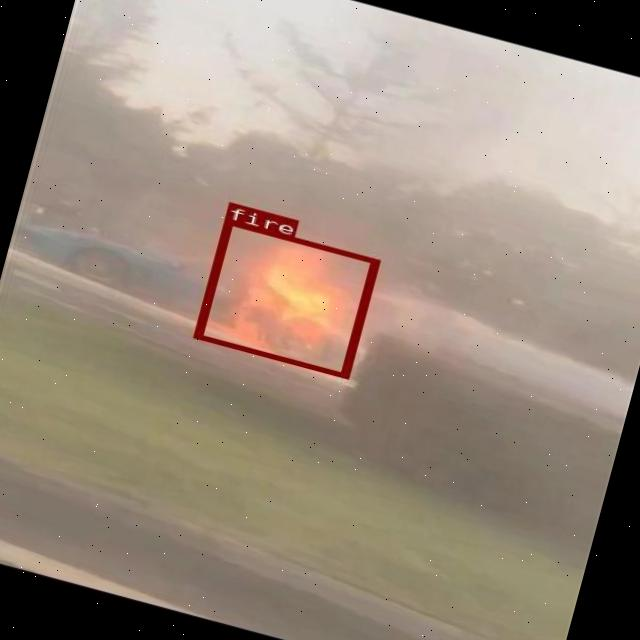fire: (190, 217, 378, 377)
